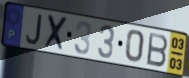0: (124, 29, 146, 65)
3: (97, 23, 116, 59), (73, 20, 92, 55)
B: (146, 31, 170, 69)
J: (25, 13, 43, 46)
X: (43, 13, 70, 54)
